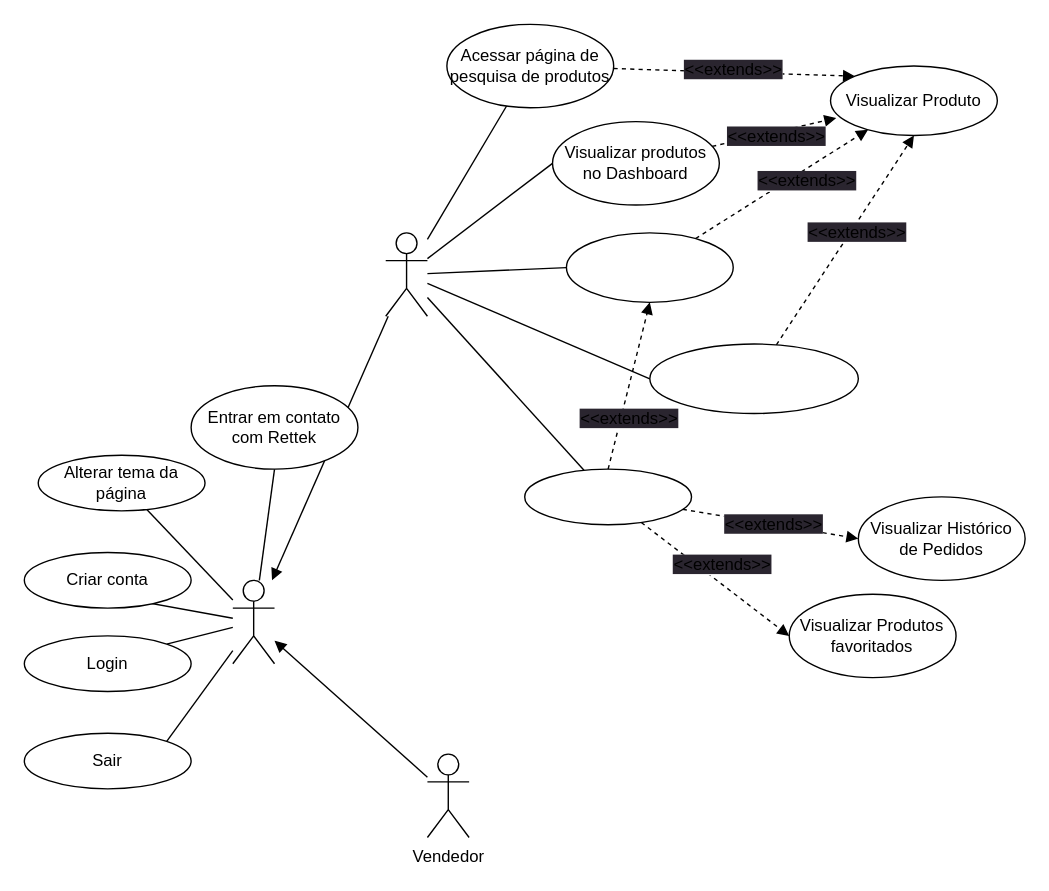
This 1049x891 diagram has some shape labels left out. The centre of each missing label's shape, as x and y in pixels:
Acessar carrinho de compras: point 649,266
Consumidor: point 405,273
Usuário: point 253,621
Visualizar Perfil: point 607,496
Visualizar páginas de categorias de produtos: point 753,378
